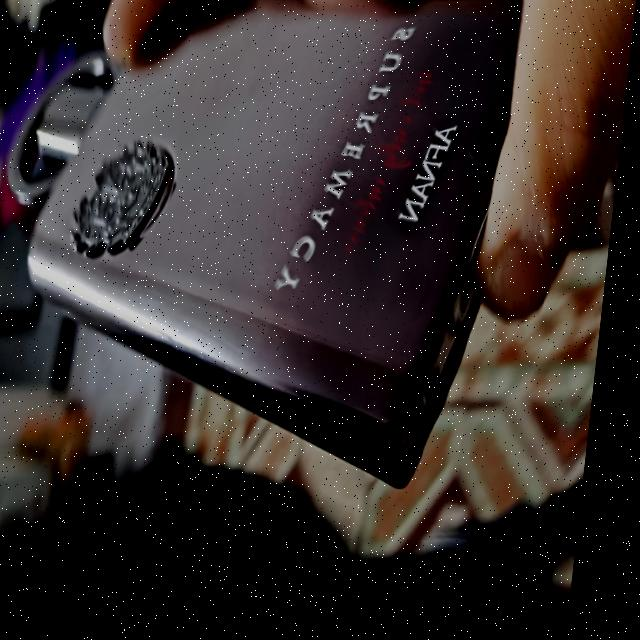Afnan: (0, 0, 526, 513)
